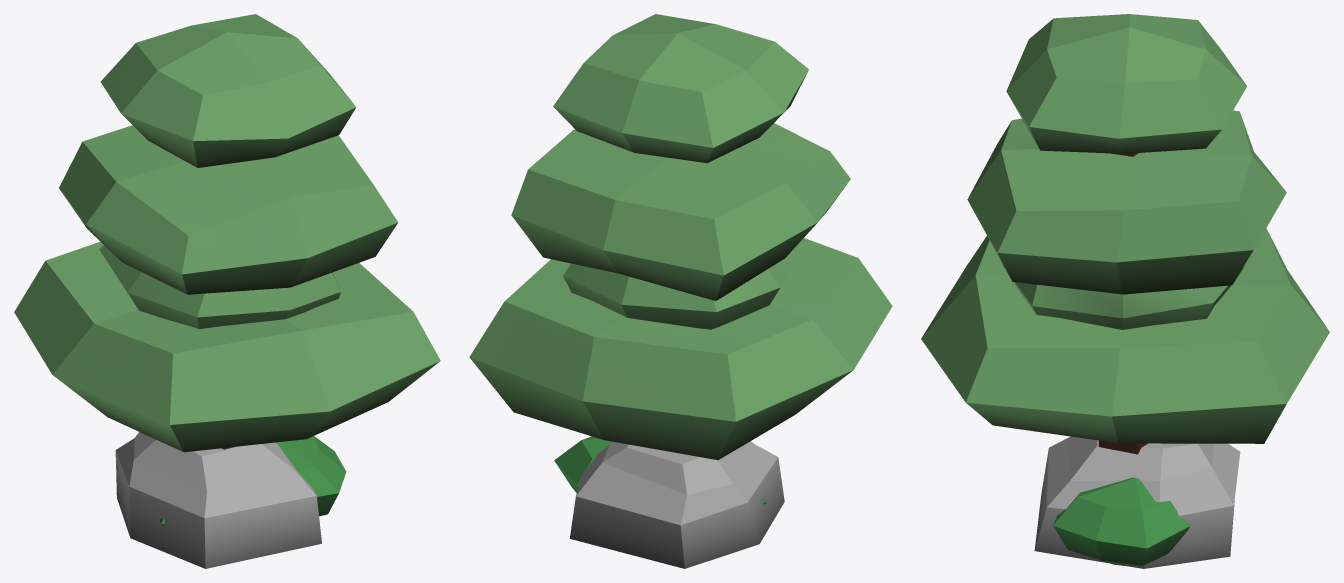
3 renders of one model, left to right at view 1: azimuth 30°, elevation 25°; view 2: azimuth 150°, elevation 25°; view 3: azimuth 270°, elevation 25°, orthographic. The views are drawn at different scales.
Visible parts, largest first — view 1: tree3, rock2, tree2, bush2; view 2: tree3, rock2, tree2, bush2; view 3: tree3, rock2, bush2, tree2.
Boxes of the visible parts, x1,y1,x2,y2 form: tree3: (14,14,440,452); rock2: (115,432,321,568); tree2: (99,245,340,329); bush2: (160,436,346,525); tree3: (469,14,892,460); rock2: (570,441,784,568); tree2: (563,242,802,329); bush2: (554,436,766,504); tree3: (921,14,1329,454); rock2: (1034,436,1240,568); bush2: (1053,477,1190,566); tree2: (1003,265,1244,329).
Size of the model in its own units: 617 by 852 by 630.
